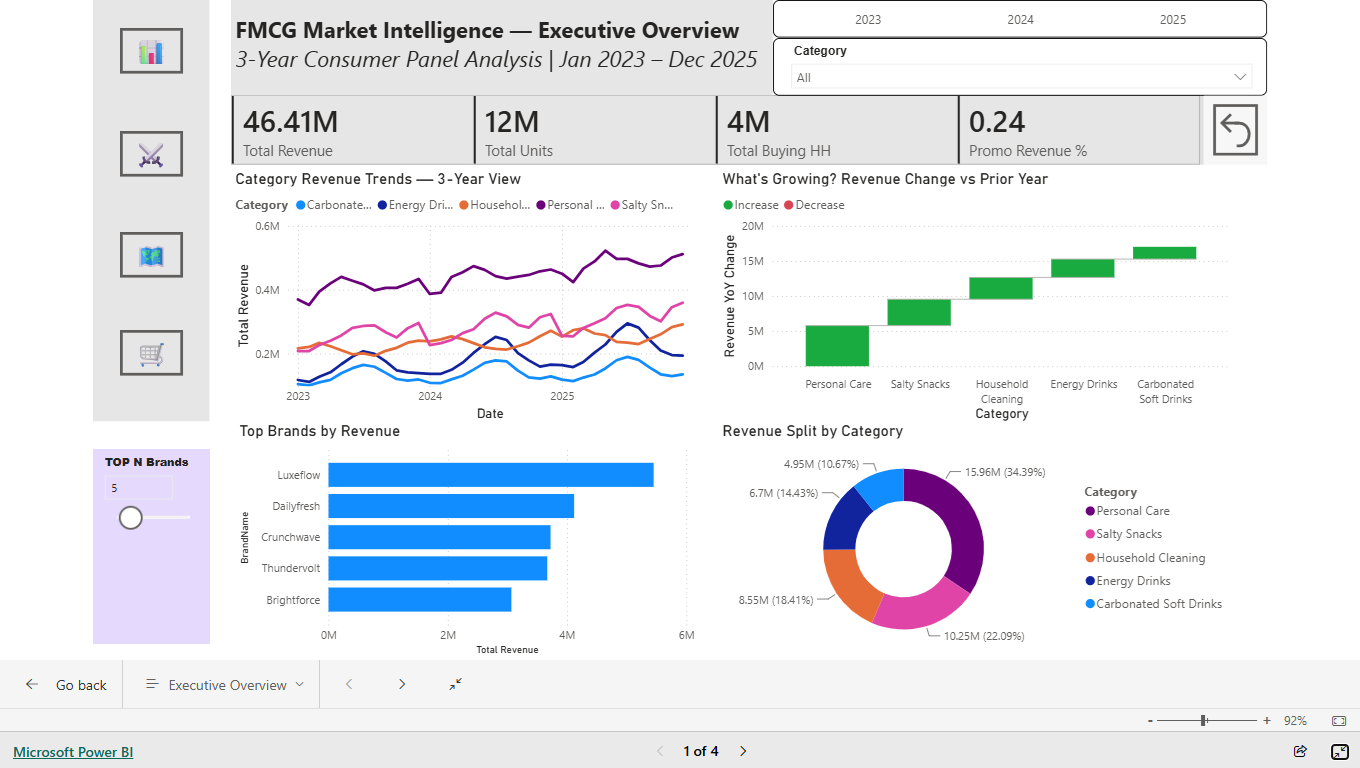

The page's visual inventory and layout, read from the dashboard file:
{"tool":"powerbi","page":{"name":"Executive Overview","canvas":[1280,720],"ordinal":0},"visuals":[{"type":"shape","box":[0,0,127.3,459.5],"z":0},{"type":"cardVisual","fields":{"Data":["_Measures.Total Revenue","_Measures.Total Units","_Measures.Total Buying HH","_Measures.Promo Revenue %"]},"box":[150.7,103.9,1061,76.1],"z":1000},{"type":"actionButton","title":"Overview","box":[29.3,30.7,68.8,49.8],"z":2000},{"type":"actionButton","box":[29.3,143.4,68.8,49.8],"z":3000},{"type":"actionButton","box":[29.3,253.2,68.8,49.8],"z":4000},{"type":"lineChart","title":"Category Revenue Trends — 3-Year View","fields":{"Category":["Dim_Date.Date"],"Y":["_Measures.Total Revenue"],"Series":["Dim_Segment.Dim_Category"]},"box":[150.7,184.4,510.7,279.5],"z":5000},{"type":"waterfallChart","title":"What''s Growing? Revenue Change vs Prior Year","fields":{"Category":["Dim_Segment.Dim_Category"],"Y":["_Measures.Revenue YoY Change"]},"box":[682,184.4,564.9,279.5],"z":6000},{"type":"donutChart","title":"Revenue Split by Category","fields":{"Y":["_Measures.Total Revenue"],"Category":["Dim_Segment.Dim_Category"]},"box":[682,459.5,564.9,260.5],"z":7000},{"type":"clusteredBarChart","title":"Top Brands by Revenue","fields":{"Category":["Dim_Brand.BrandName"],"Y":["_Measures.Total Revenue"]},"box":[155.1,459.5,506.3,260.5],"z":8000},{"type":"slicer","fields":{"Values":["Dim_Date.Year"]},"box":[742,0,538.5,41],"z":9000},{"type":"slicer","fields":{"Values":["Dim_Segment.Dim_Category"]},"box":[742,41,538.5,62.9],"z":10000},{"type":"actionButton","box":[1211.7,103.9,68.8,76.1],"z":11000},{"type":"slicer","fields":{"Values":["TOP N Brands.TOP N Brands"]},"box":[0,490.2,127.3,212.2],"z":12000},{"type":"actionButton","box":[29.3,360,68.8,49.8],"z":13000},{"type":"textbox","box":[150.7,0,591.2,103.9],"z":14000}]}

Visuals, with their boxes on the page's 1280x720 design canvas (x1, y1, x2, y2). These are canvas units, not pixel positions in the 1360x768 screenshot, which may show the page scaled, cropped or inside an application window:
shape: bbox=(0, 0, 127, 460)
cardVisual - _Measures.Total Revenue x _Measures.Total Units: bbox=(151, 104, 1212, 180)
"Overview" actionButton: bbox=(29, 31, 98, 80)
actionButton: bbox=(29, 143, 98, 193)
actionButton: bbox=(29, 253, 98, 303)
"Category Revenue Trends — 3-Year View" lineChart: bbox=(151, 184, 661, 464)
"What''s Growing? Revenue Change vs Prior Year" waterfallChart: bbox=(682, 184, 1247, 464)
"Revenue Split by Category" donutChart: bbox=(682, 460, 1247, 720)
"Top Brands by Revenue" clusteredBarChart: bbox=(155, 460, 661, 720)
slicer - Dim_Date.Year: bbox=(742, 0, 1280, 41)
slicer - Dim_Segment.Dim_Category: bbox=(742, 41, 1280, 104)
actionButton: bbox=(1212, 104, 1280, 180)
slicer - TOP N Brands.TOP N Brands: bbox=(0, 490, 127, 702)
actionButton: bbox=(29, 360, 98, 410)
textbox: bbox=(151, 0, 742, 104)
